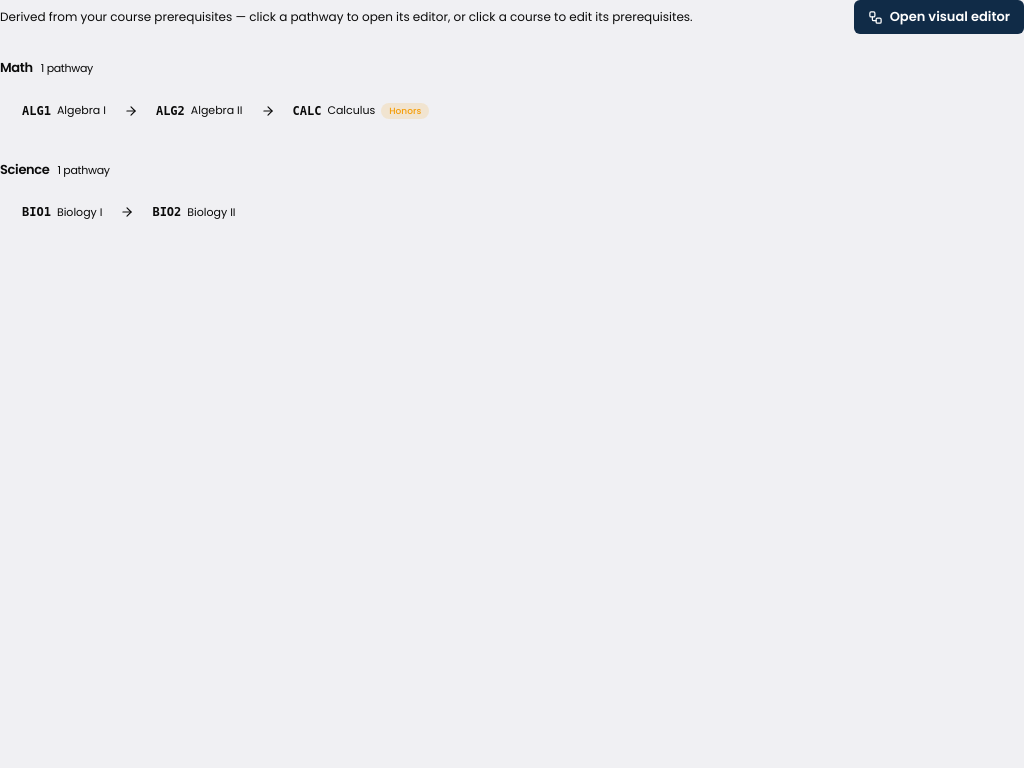
Test: PathwaysPanel › clicking a course opens the edit dialog seeded with its current prerequisites
Click the text "CALC": click(307, 110) left=292, top=102, right=321, bottom=120
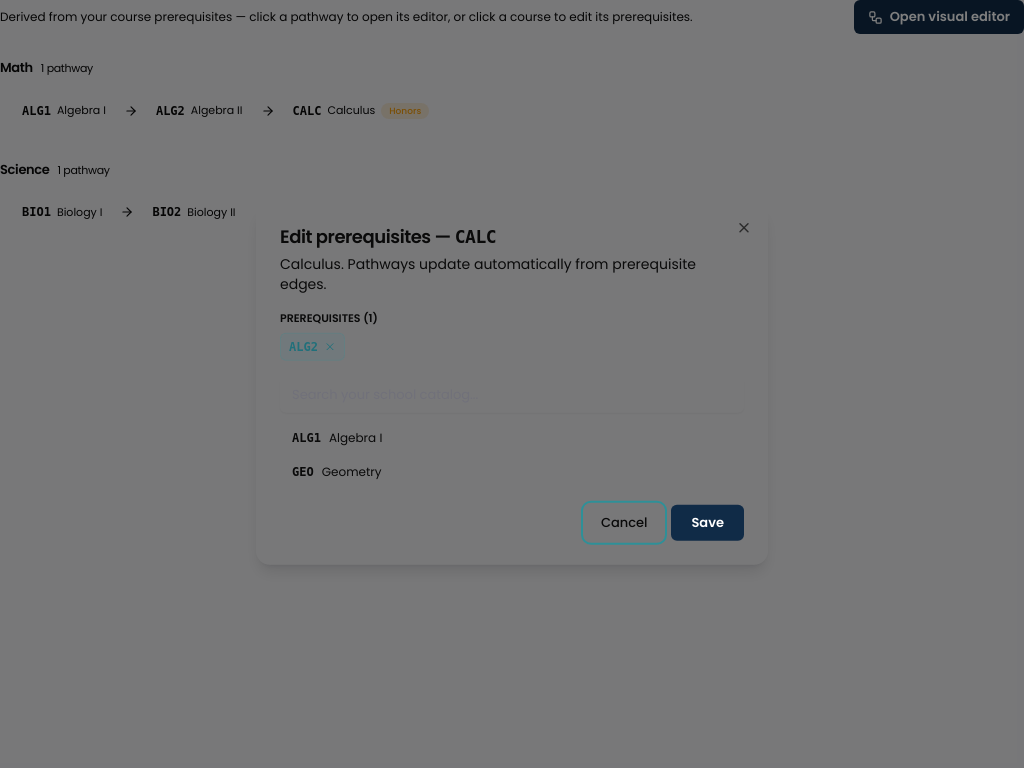
Expected: the heading "Edit prerequisites — CALC" is shown, left=280, top=224, right=496, bottom=249
Expected: the button named "Remove ALG2" is shown, left=324, top=340, right=336, bottom=352
